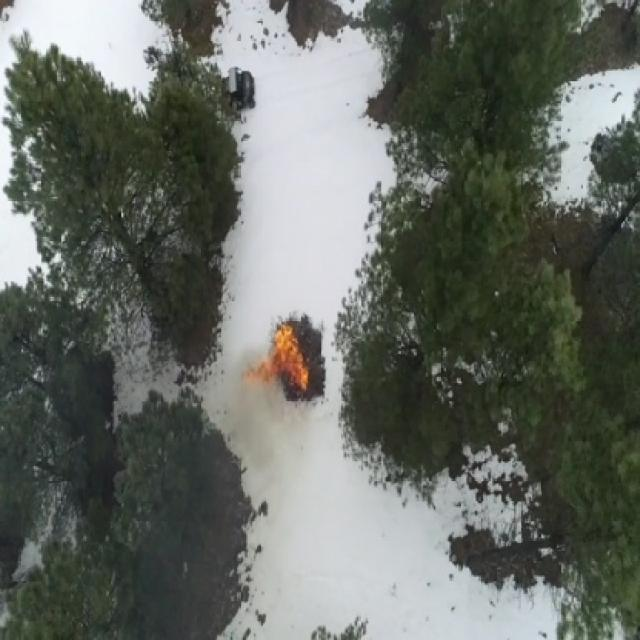Fire: (242, 310, 326, 404)
